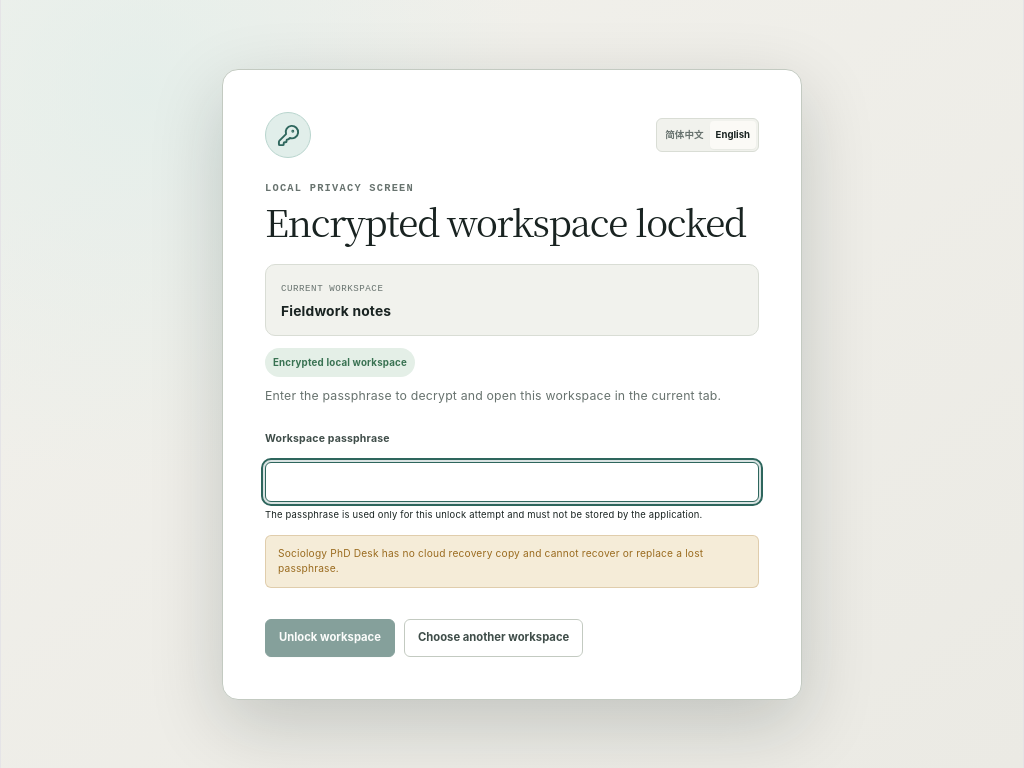
WorkspaceAccessGate › keeps locked-session truth when opening Workspace Center privacy from the lock screen
Click the button "Choose another workspace" at (494, 637), box [404, 618, 583, 656]
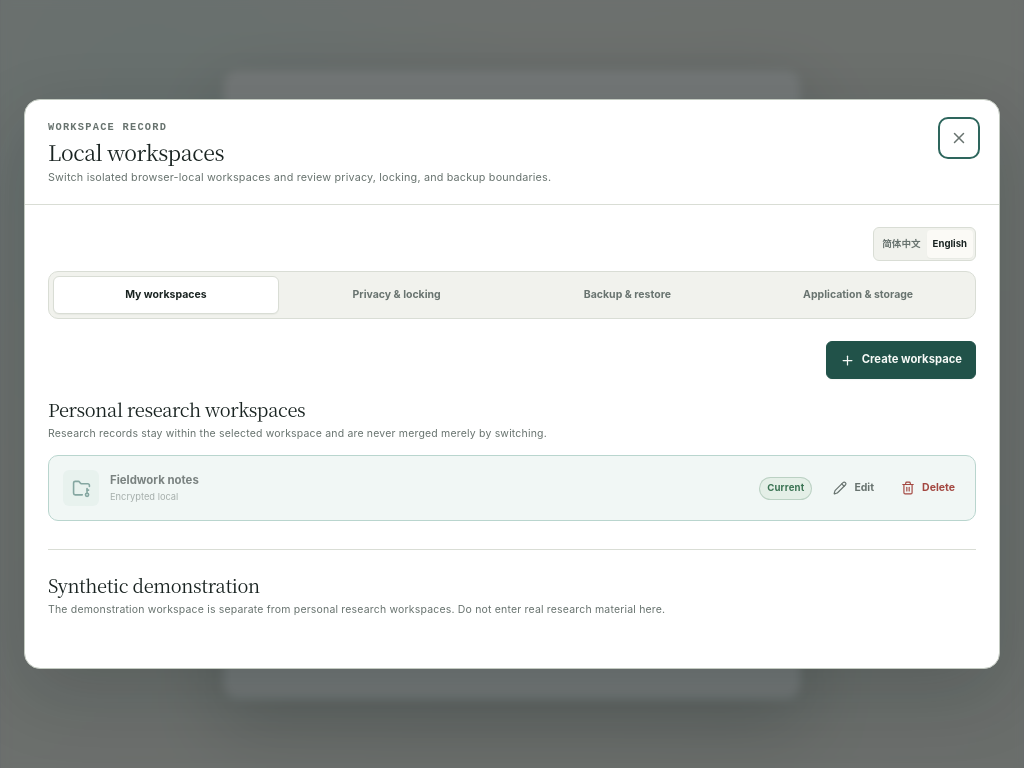
Check: the dialog "Local workspaces" is shown
Click the tab "Privacy & locking" at (397, 295), box [284, 276, 510, 314]
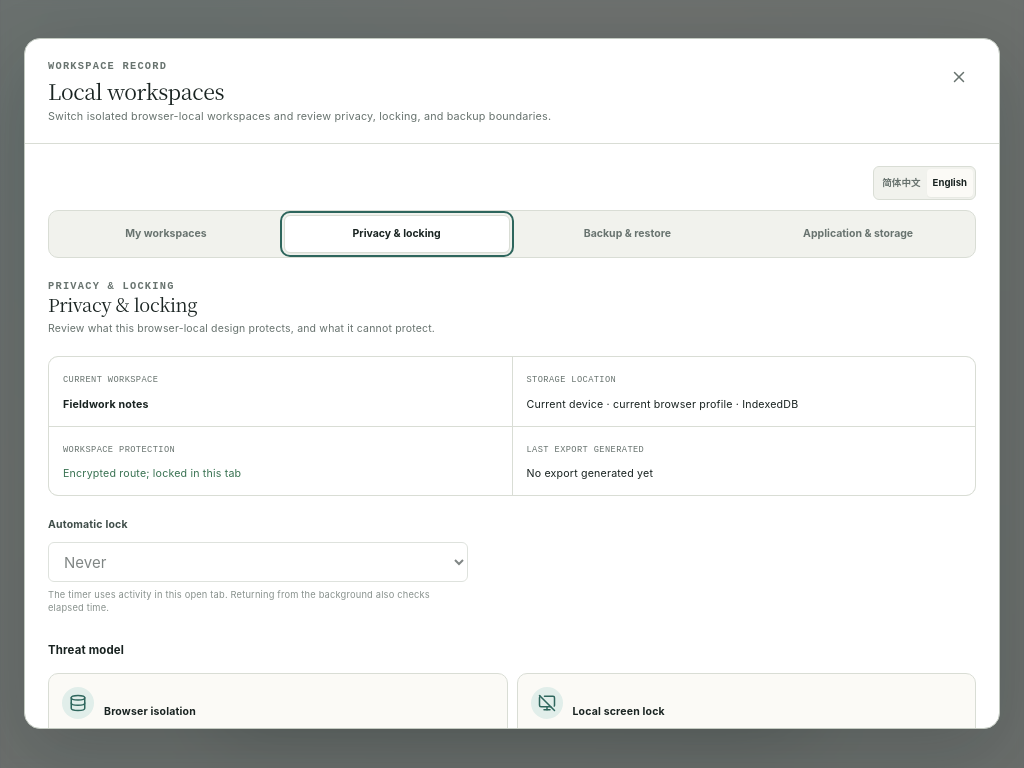
Check: the text "Encrypted route; locked in this tab" is shown, box [63, 468, 241, 481]
